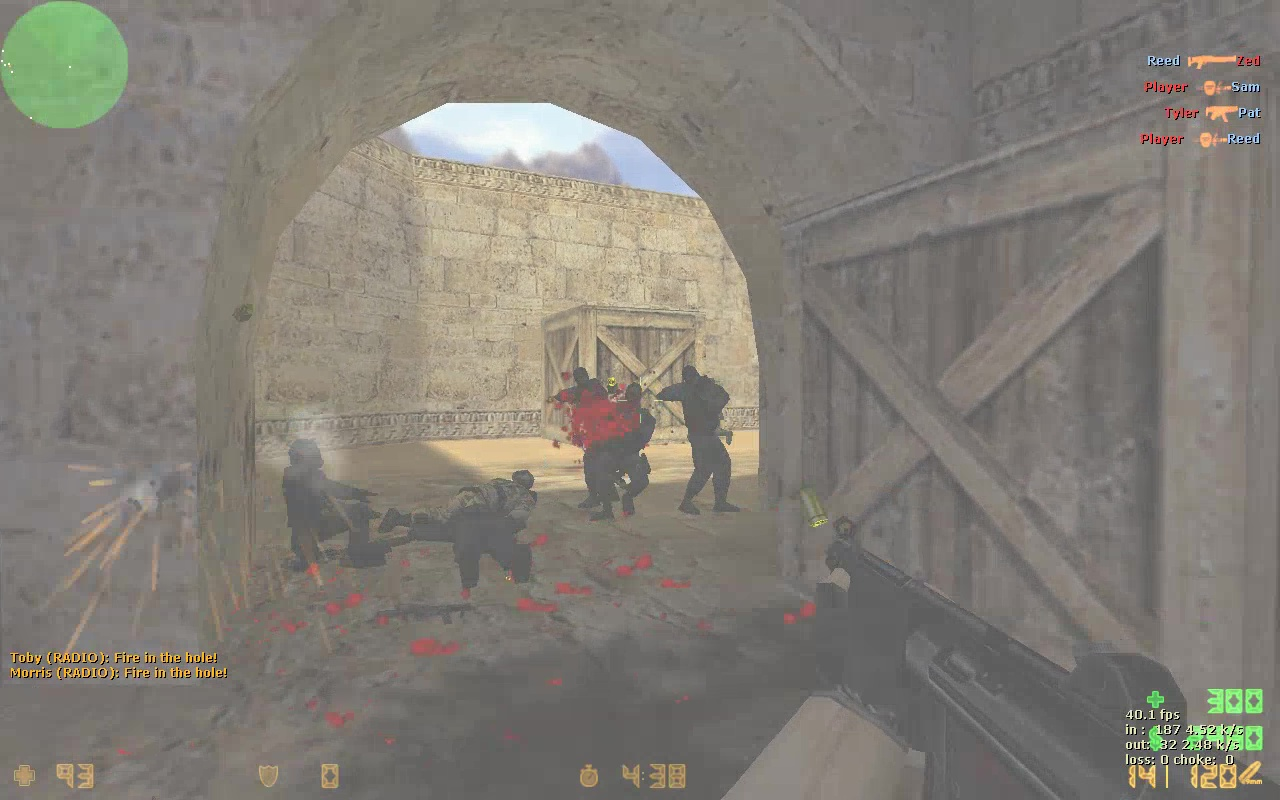ct: (662, 366, 733, 517)
dead: (381, 475, 549, 565), (255, 456, 379, 564)
